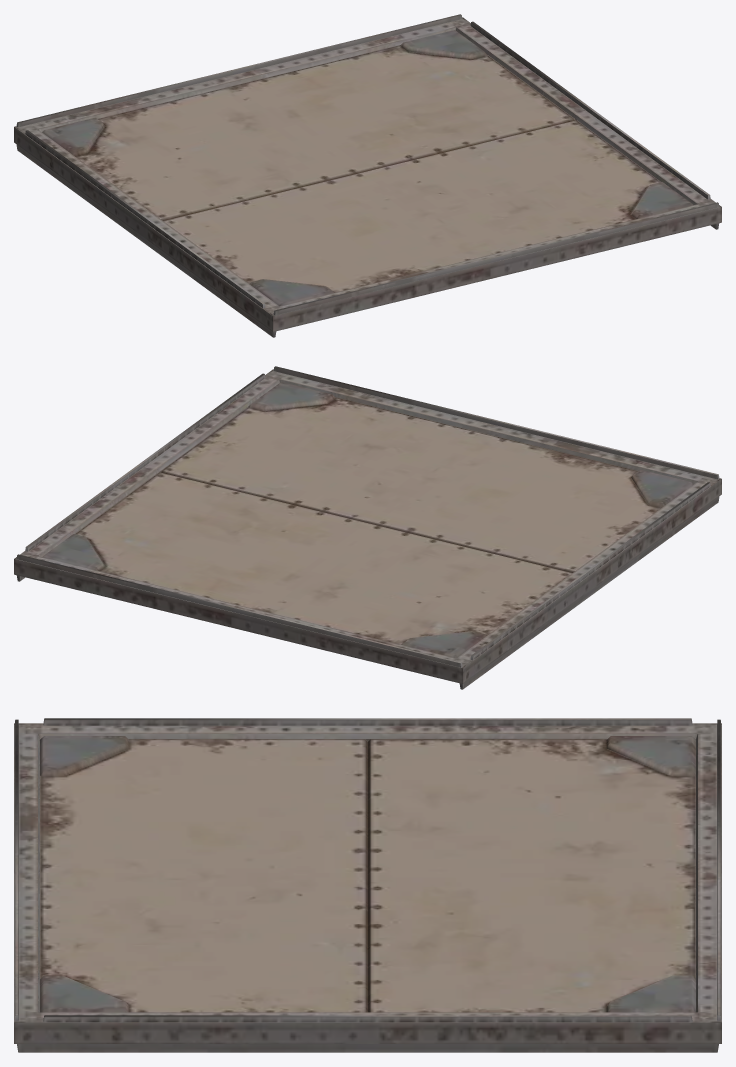
File: foundation.spacestation.glb
3 views of the same model, one above another, from view 1: azimuth 30°, elevation 25°; view 2: azimuth 150°, elevation 25°; view 3: azimuth 270°, elevation 25° (orthographic). The views are drawn at different scales.
Parts seen in each view (by area): view 1: floor; view 2: floor; view 3: floor.
Boxes of the visible parts, bbox=[...] form: floor: bbox=[14, 14, 721, 337]; floor: bbox=[14, 366, 721, 689]; floor: bbox=[14, 718, 721, 1052].
Size of the model in its own units: 3 by 0.1723 by 3.
1 material, 1 textured.
